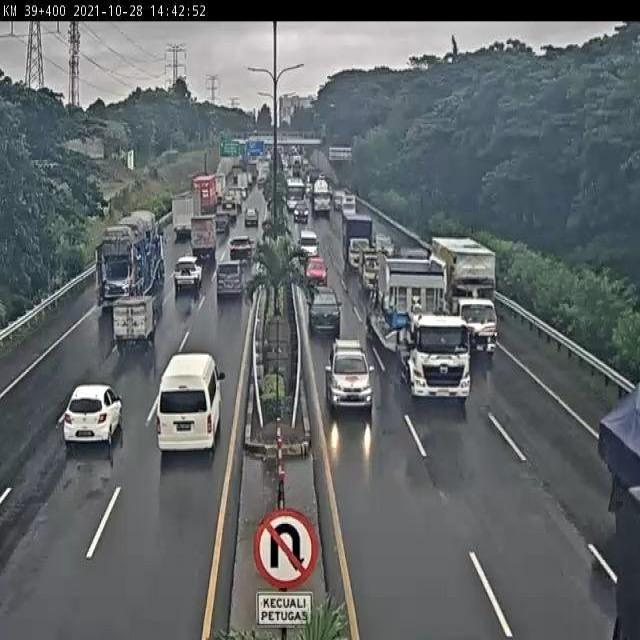big truck: (95, 212, 165, 309)
car: (164, 335, 232, 433), (326, 339, 374, 413), (74, 370, 131, 430), (305, 288, 341, 335), (215, 257, 241, 295), (176, 251, 204, 285), (304, 256, 330, 288)
small truck: (117, 293, 160, 340)
truck-l-: (432, 236, 497, 363)
truck-m-: (344, 216, 377, 275), (360, 245, 381, 296)
truck-xl-: (369, 245, 471, 399)
